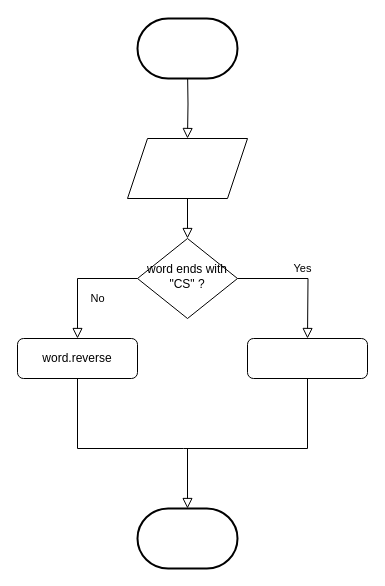
Some shapes in this 385 by 586 pixel diagram are drawn without their labels. Each missing label, with the centre of its shape:
"2 ** word.length" goes at (307,358).
"word" goes at (187,168).
